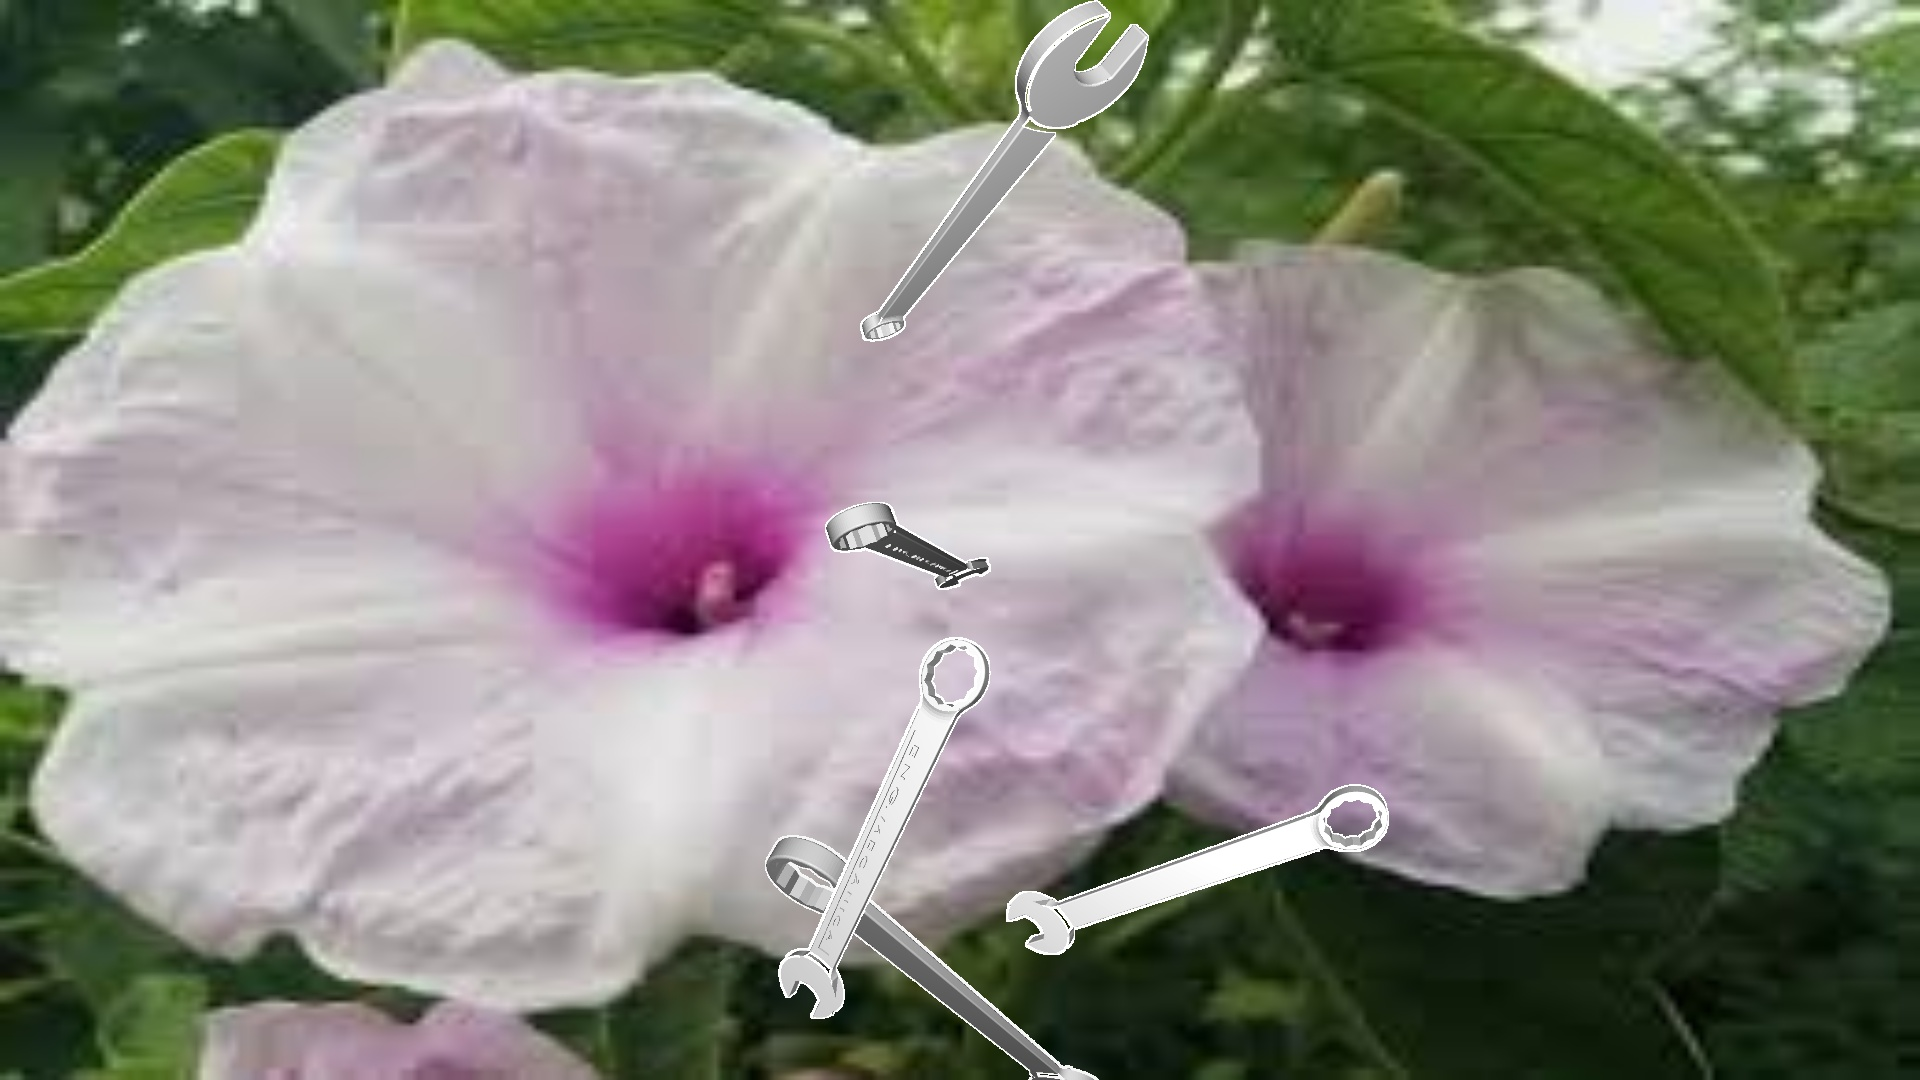Mixed Key: (860, 0, 1149, 342), (765, 835, 1098, 1079), (778, 637, 990, 1018), (1006, 785, 1389, 953), (825, 502, 990, 589)
